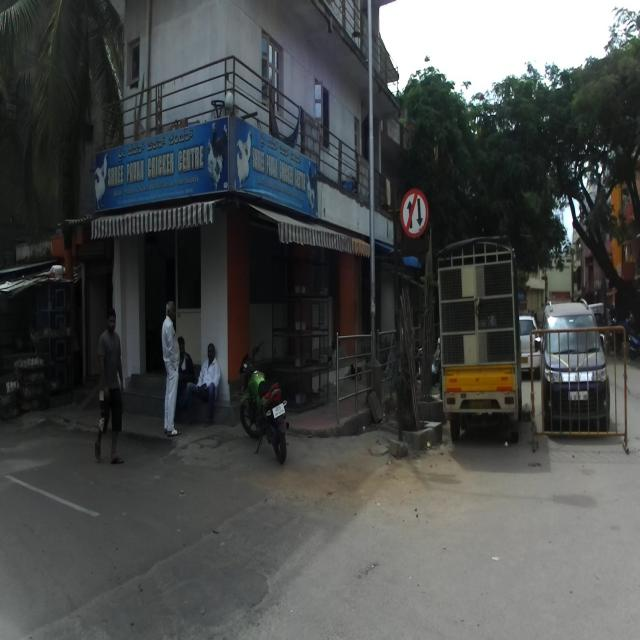Car: (540, 292, 610, 436)
motorcycle_TVS: (238, 338, 290, 464)
truck: (433, 228, 525, 446)
